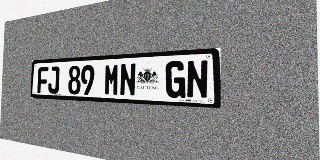8: (68, 65, 81, 95)
9: (81, 65, 94, 95)
F: (37, 67, 48, 93)
G: (165, 61, 186, 98)
J: (48, 66, 60, 94)
M: (104, 64, 119, 96)
N: (186, 60, 208, 99), (119, 63, 136, 97)
